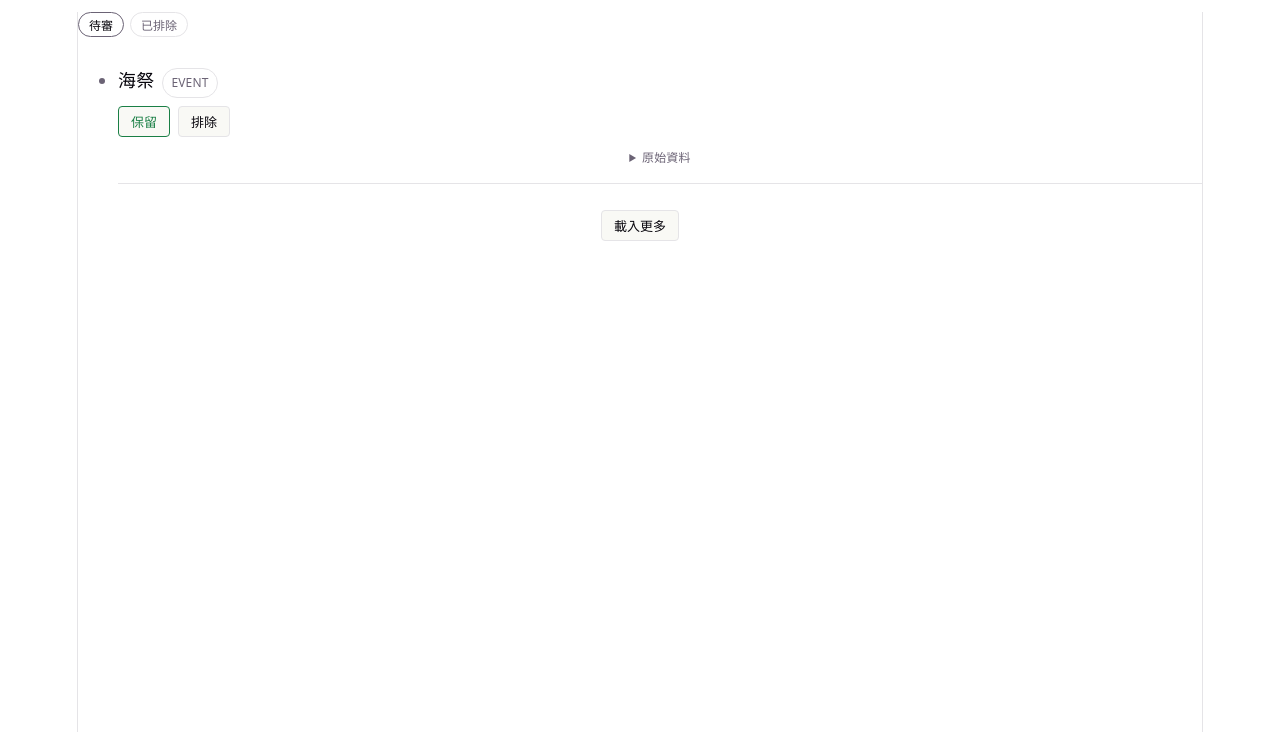
Scenario: EntityReview › pages incrementally — 載入更多 fetches the next cursor on demand (Codex #105 P2)
The image size is (1280, 732).
Expected: the text "海祭" is shown, [118,67,154,93]
Expected: the text "豐年祭" is not shown
Click the button "載入更多". click: coordinates (640, 226)
box: [601,210,679,241]
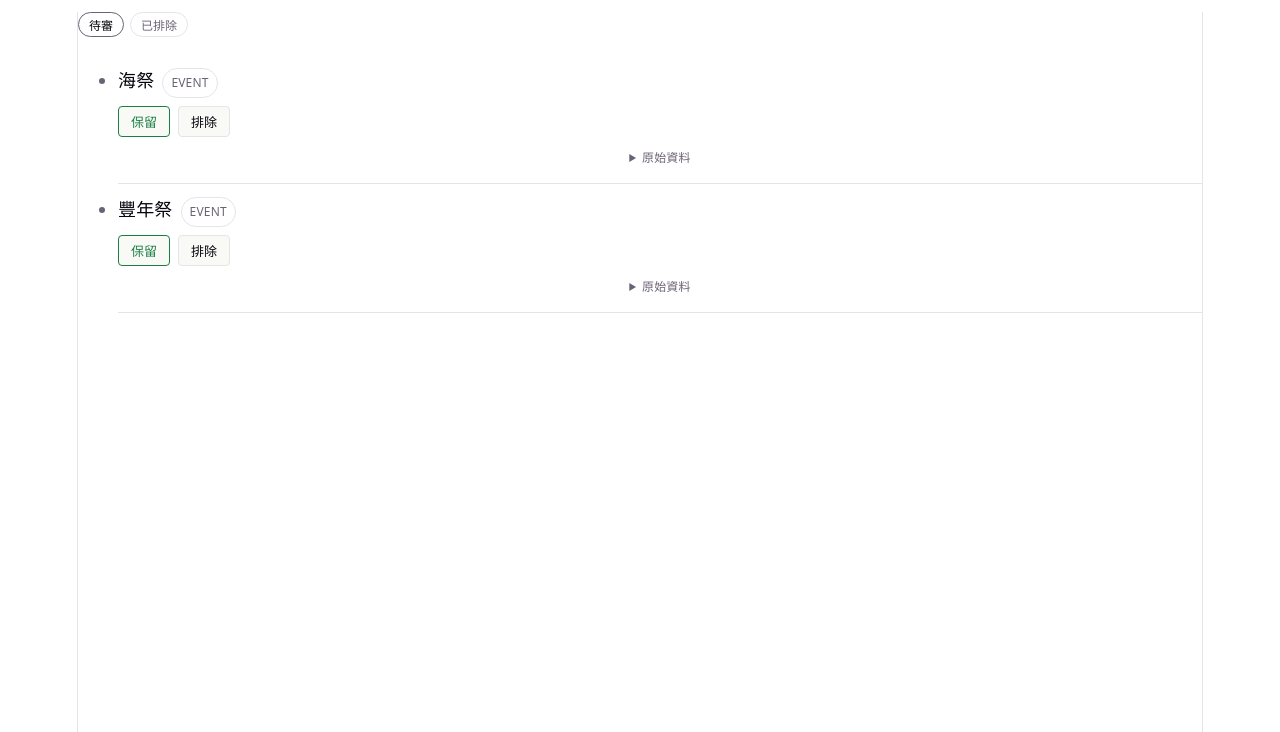
Expected: the text "豐年祭" is shown, [118,196,172,222]
